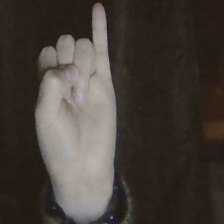I: (27, 1, 129, 177)
